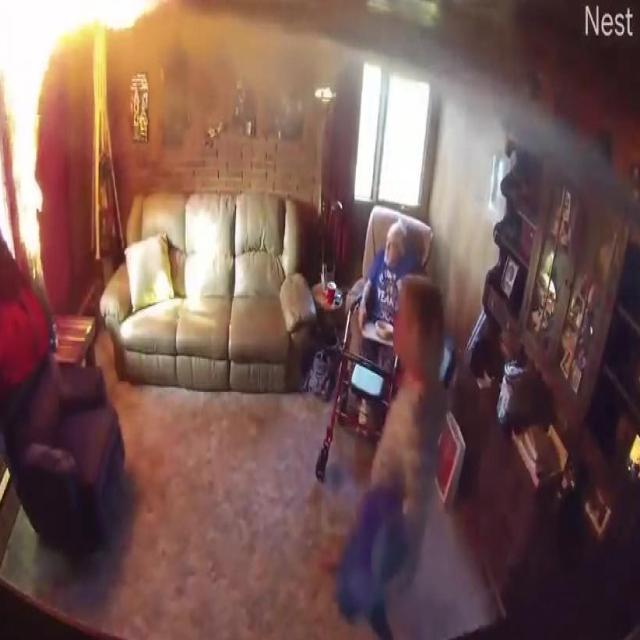smoke: (0, 0, 47, 274), (0, 0, 171, 52)
